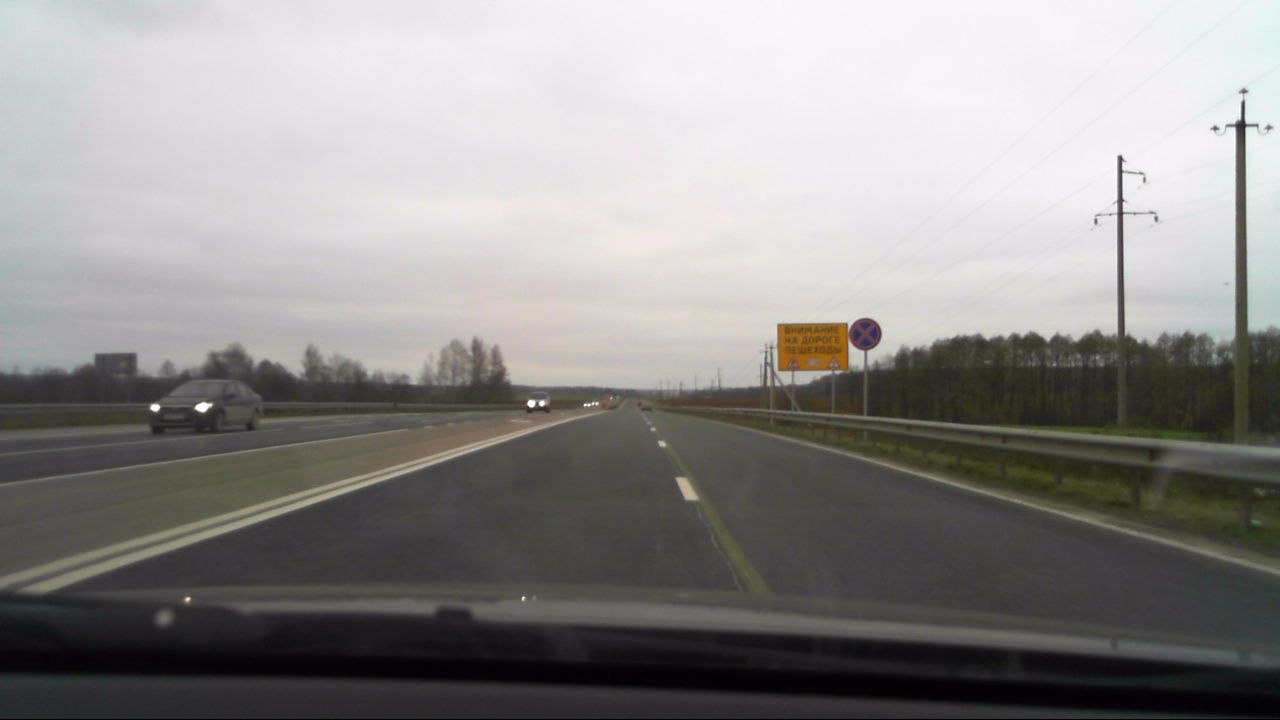No Parking: (845, 315, 884, 352)
